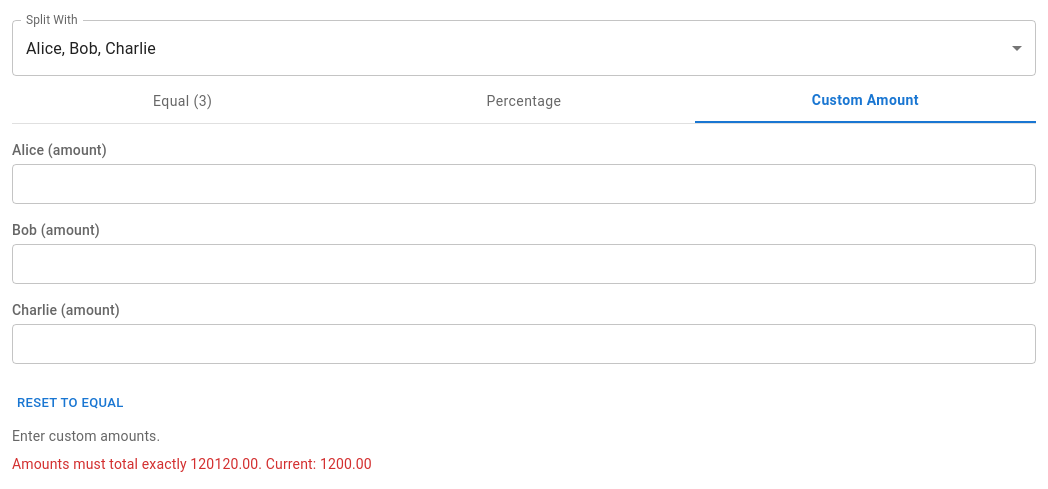
Test: SplitSelector - Core Functionality › Auto-fill Features › should auto-fill remaining percentage for last user
Switch to percentage mode
Click the button "Percentage". click: point(524, 101)
box: [353,80,695,122]
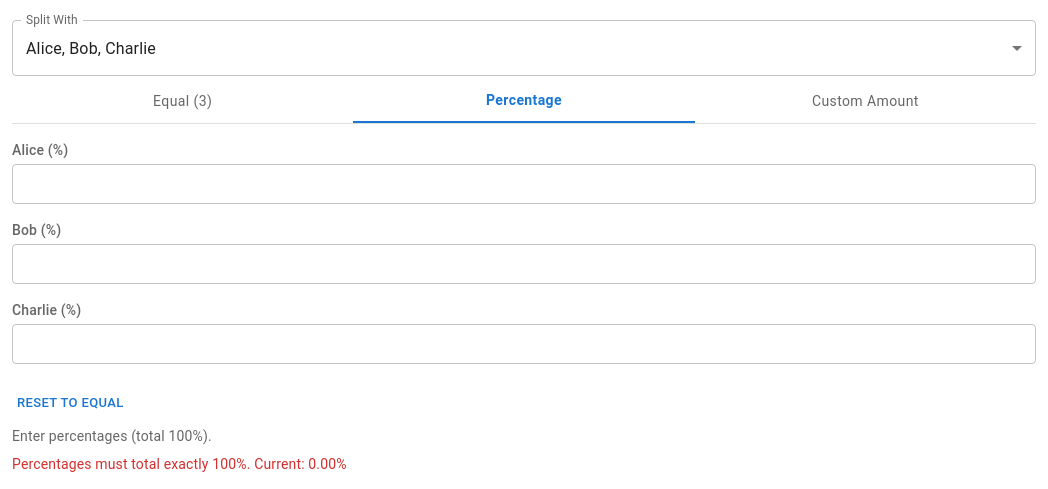
Fill first two percentages
Type "30" into the 1st number field. click: point(524, 184)
box: [12,164,1036,204]
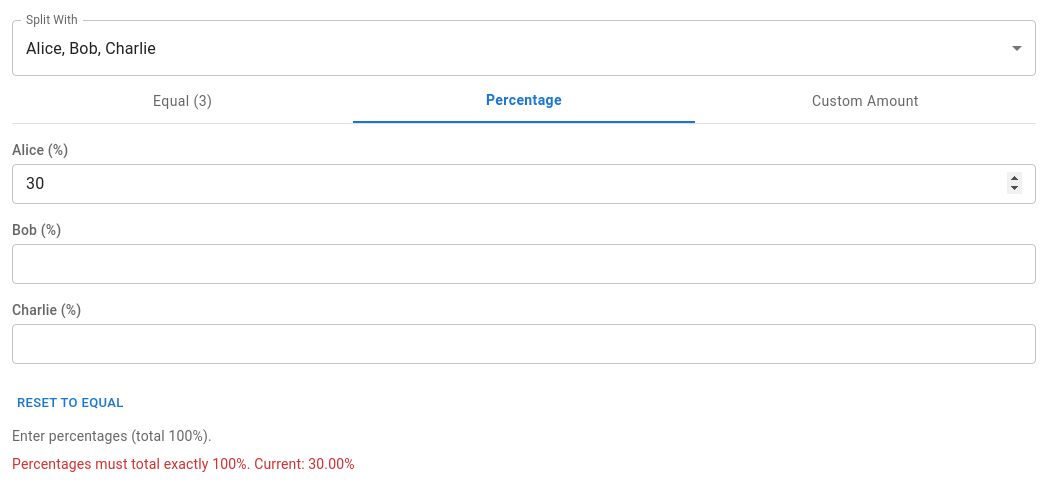
Type "20" into the 2nd number field. click: point(524, 264)
box: [12,244,1036,284]
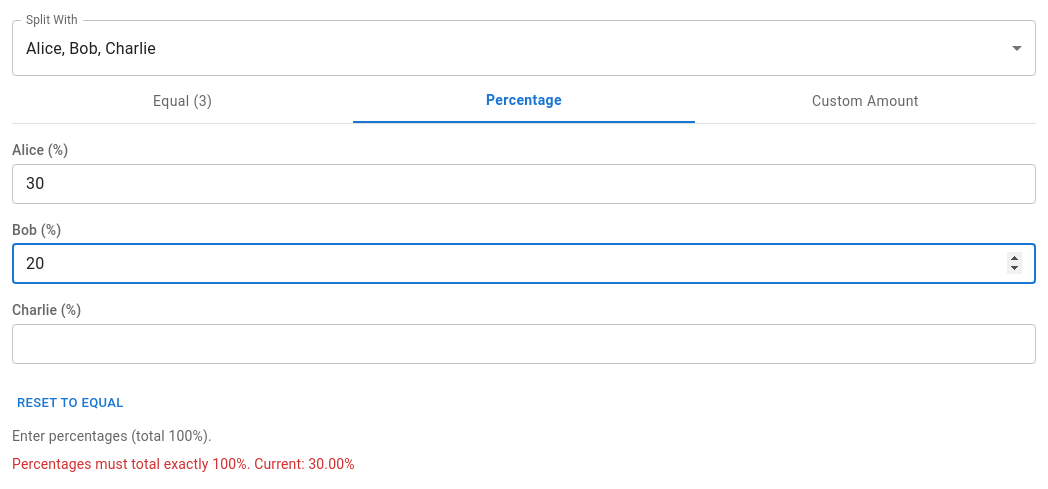
Leave the 2nd number field, box [12,244,1036,284]
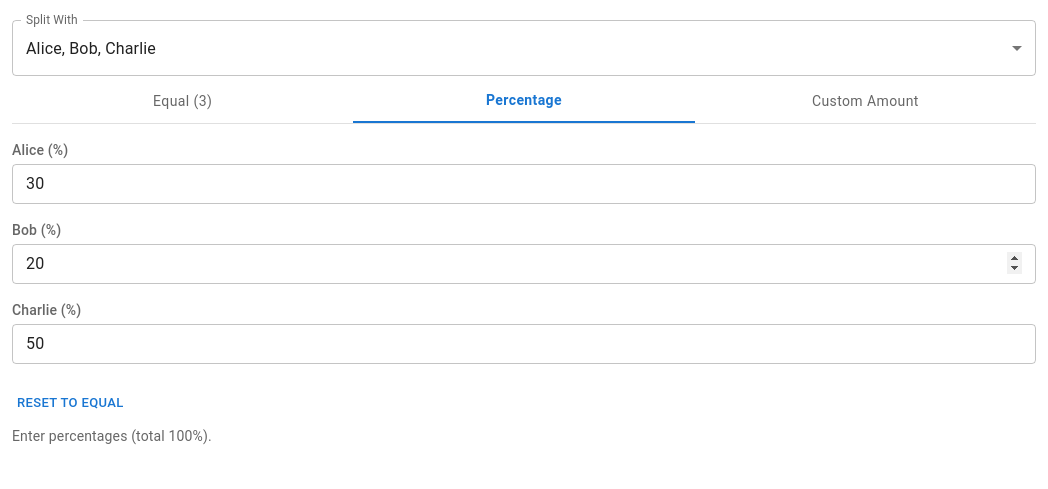
Now the 3rd number field holds "50", box [12,324,1036,364]
